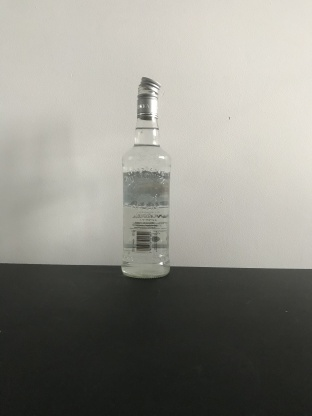nakretka: (135, 74, 162, 120)
